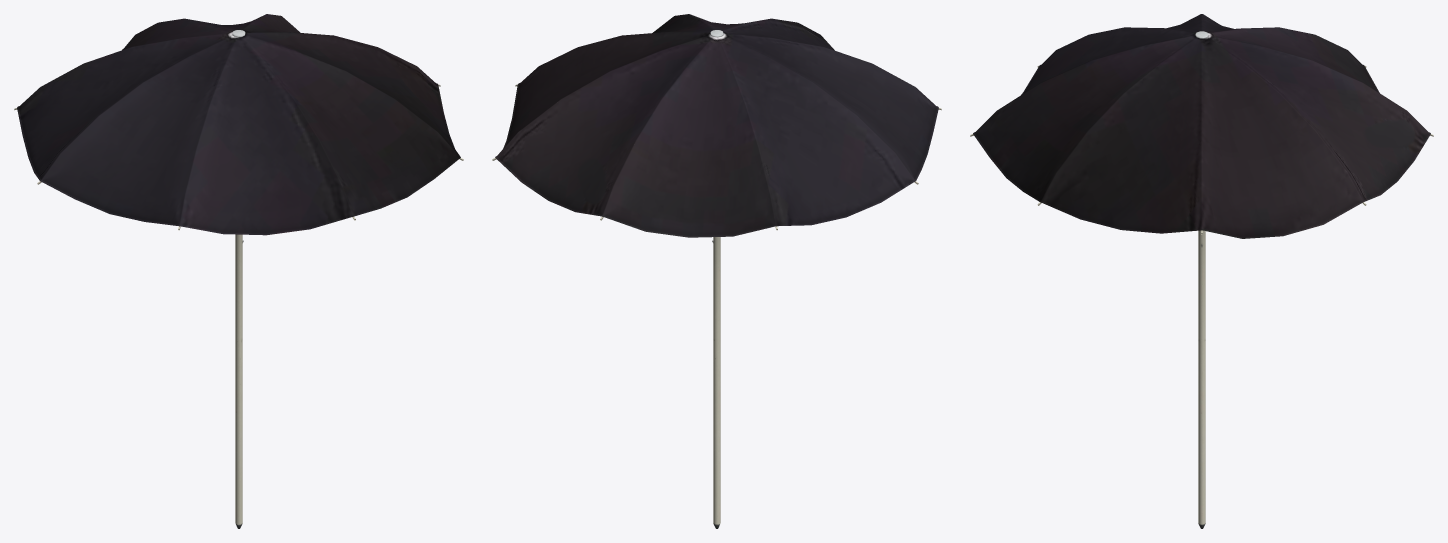
The model's file is Parasol7.fbx.
3 renders of one model, left to right at view 1: azimuth 30°, elevation 25°; view 2: azimuth 150°, elevation 25°; view 3: azimuth 270°, elevation 25°, orthographic.
Visible parts, largest first — view 1: Parasol7_LOD0; view 2: Parasol7_LOD0; view 3: Parasol7_LOD0.
Boxes of the visible parts, x1,y1,x2,y2 form: Parasol7_LOD0: (14,14,463,528); Parasol7_LOD0: (492,14,941,528); Parasol7_LOD0: (970,14,1433,528).
Size of what is drawn, in the model's own units: 203 by 239 by 203.
